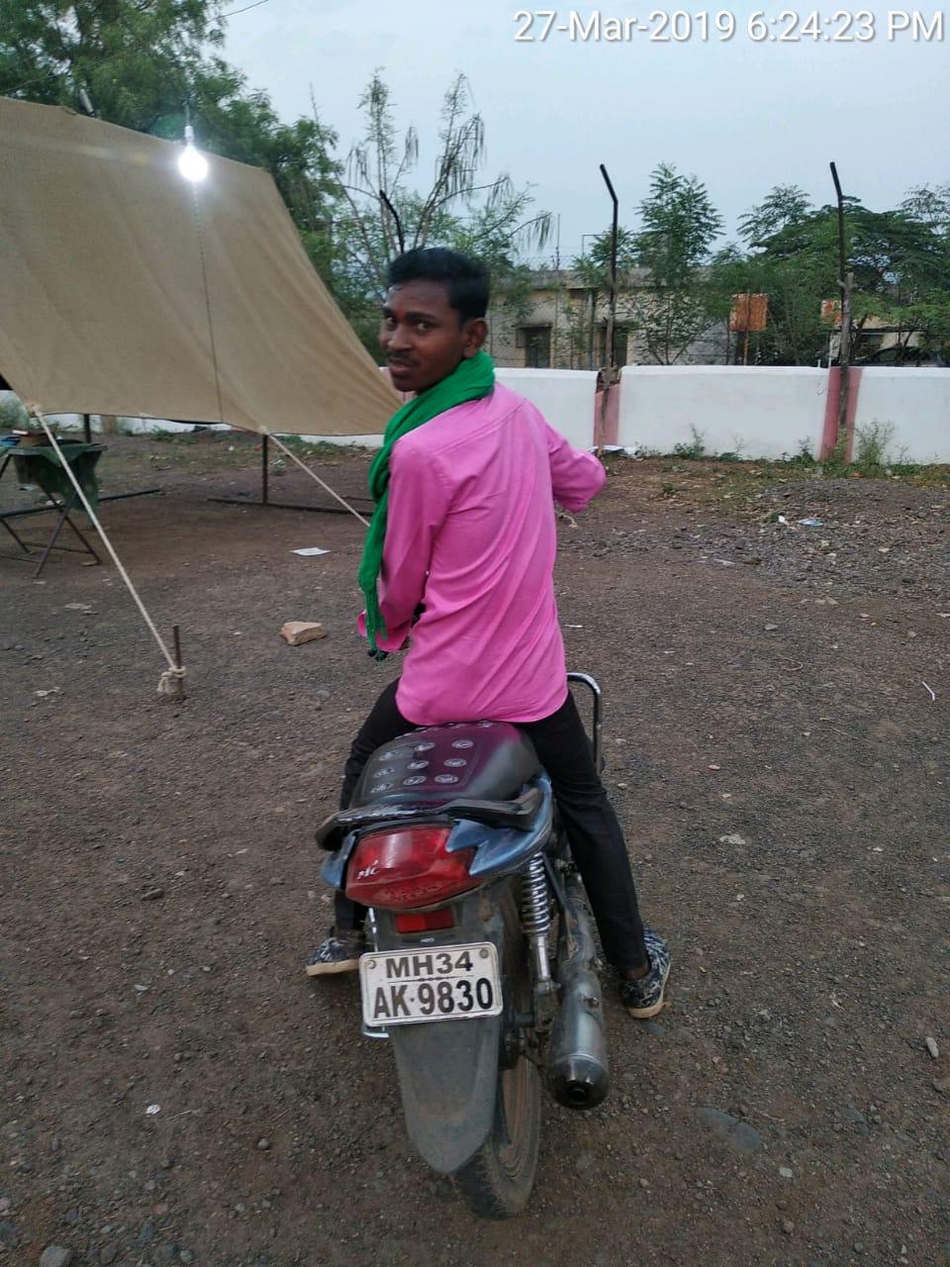plate: (330, 935, 514, 1052)
